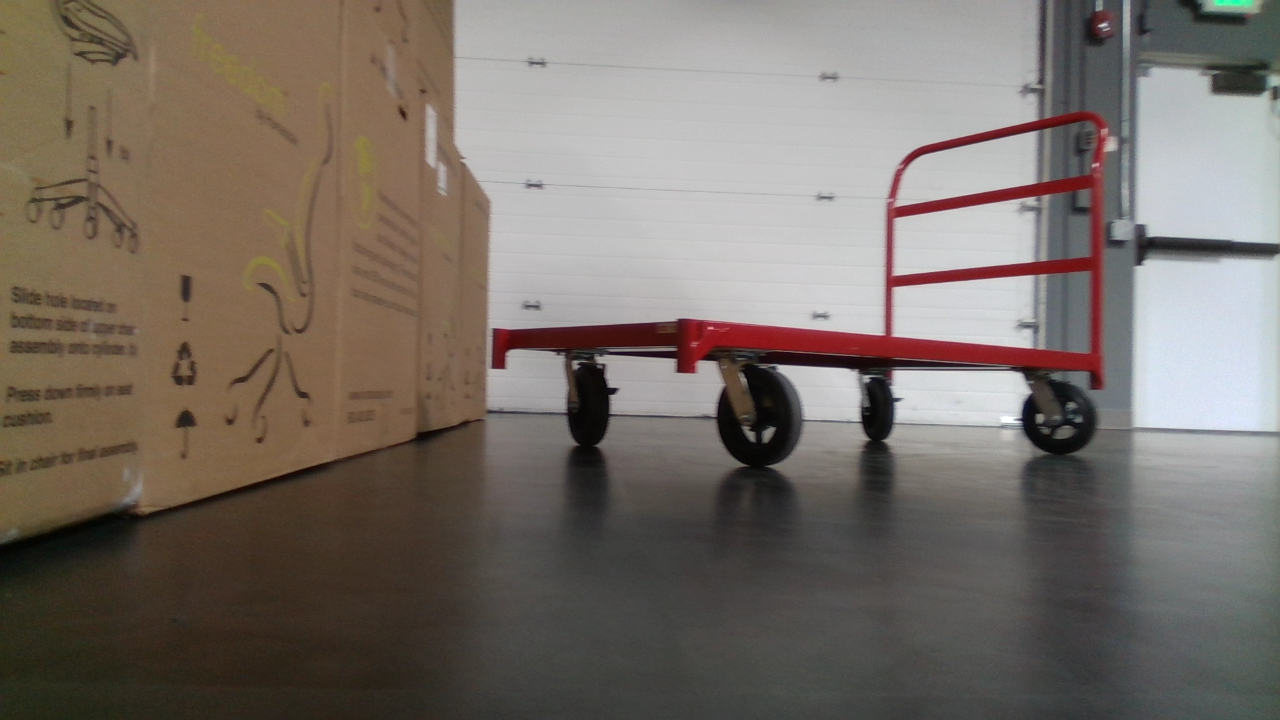Dolly: (485, 106, 1124, 474)
Wheel: (713, 362, 805, 469), (1019, 378, 1101, 457), (564, 358, 612, 449), (858, 378, 897, 442)
